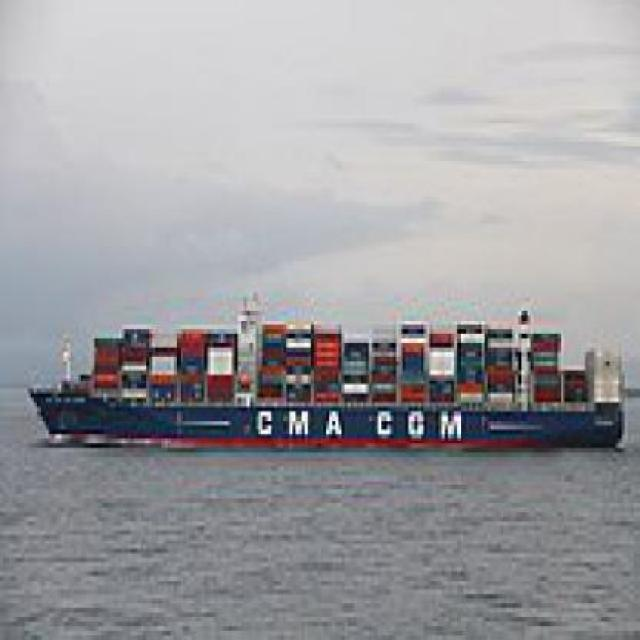container: (26, 284, 632, 467)
